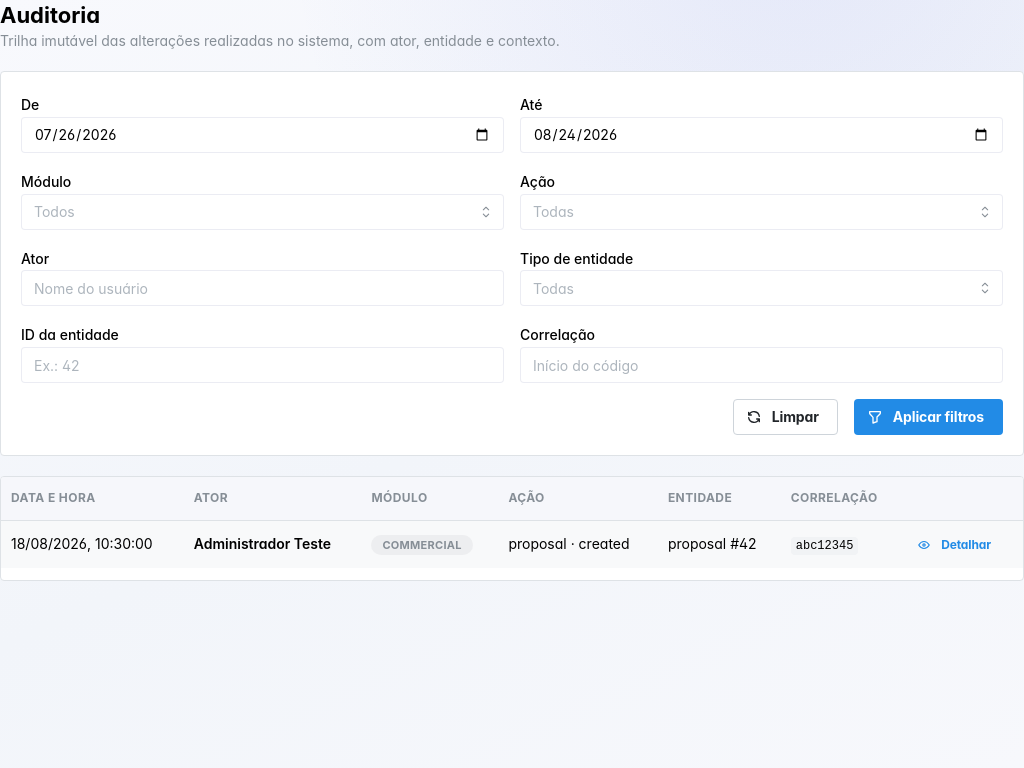
Test: AuditPage › lista a trilha e abre o contexto sem expor dados fora do evento
Expected: the text "Administrador Teste" is shown, x1=194 y1=534 x2=352 y2=555
Expected: the text "proposal #42" is shown, x1=668 y1=534 x2=771 y2=555
Click the button "Detalhar": (955, 545) x1=912 y1=534 x2=999 y2=556
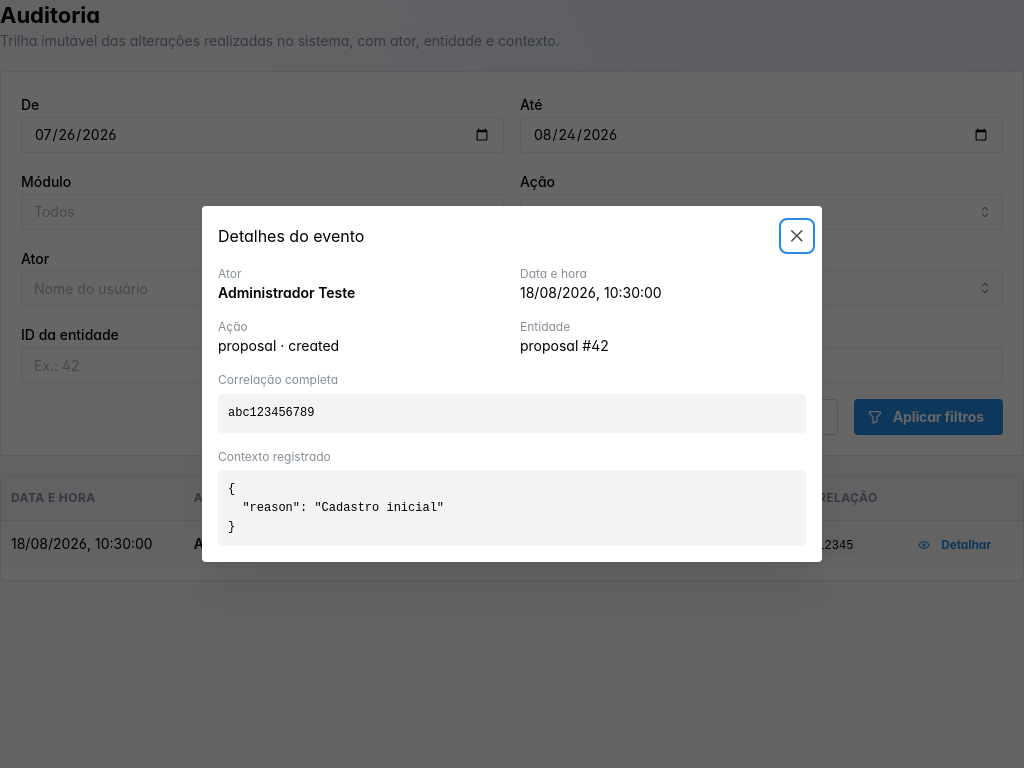
Expected: the text "{ \"reason\": \"Cadastro inicial\" }" is shown, x1=218 y1=470 x2=806 y2=546
Expected: the text "abc123456789" is shown, x1=218 y1=394 x2=806 y2=432
